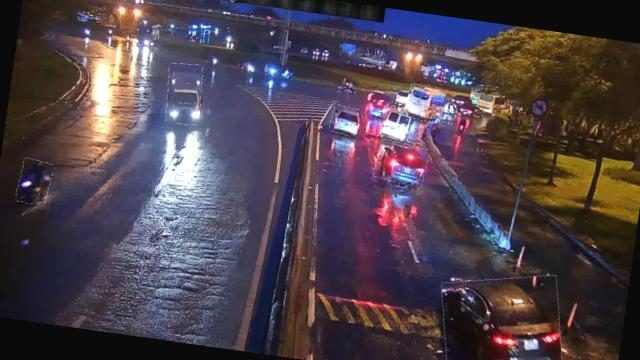Bike: (15, 158, 53, 206)
Bus: (403, 84, 446, 124), (379, 108, 414, 142)
Car: (433, 265, 569, 360), (373, 140, 429, 187), (328, 105, 361, 137)
Truck: (162, 62, 205, 127)
